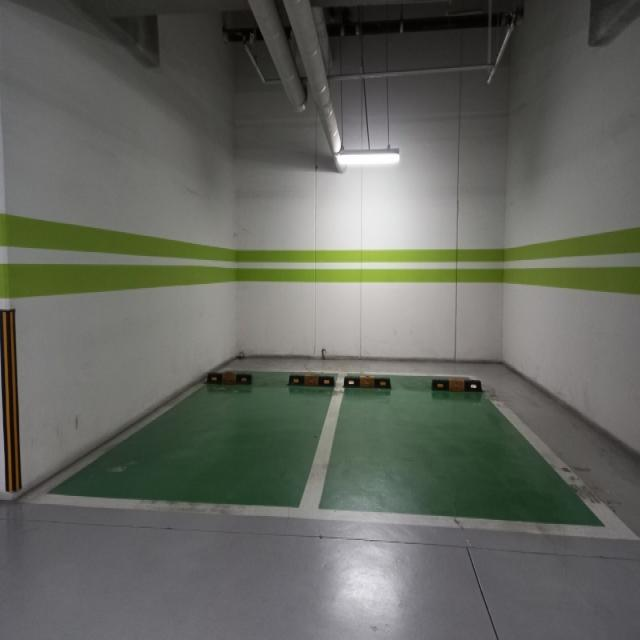empty: (27, 370, 336, 512), (313, 373, 569, 528)
